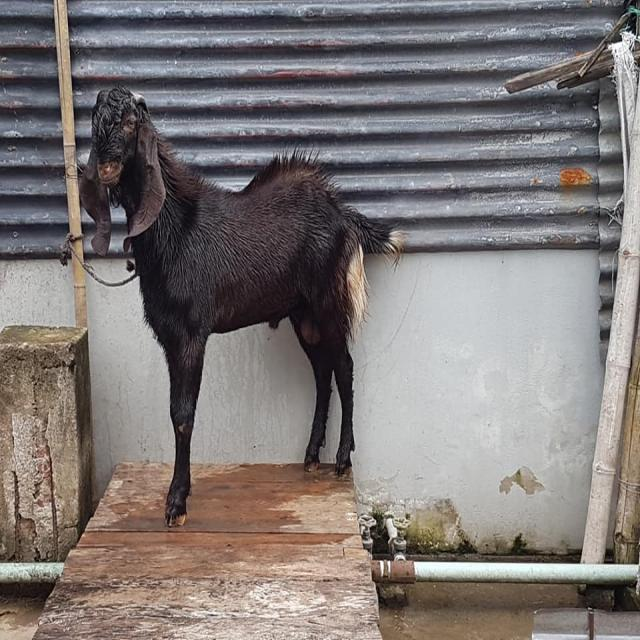Goat: (78, 83, 407, 528)
